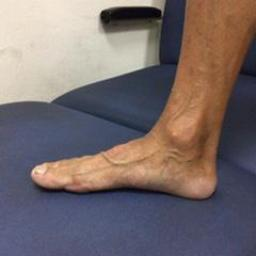Medial View -Right Foot-: (26, 94, 236, 209)
